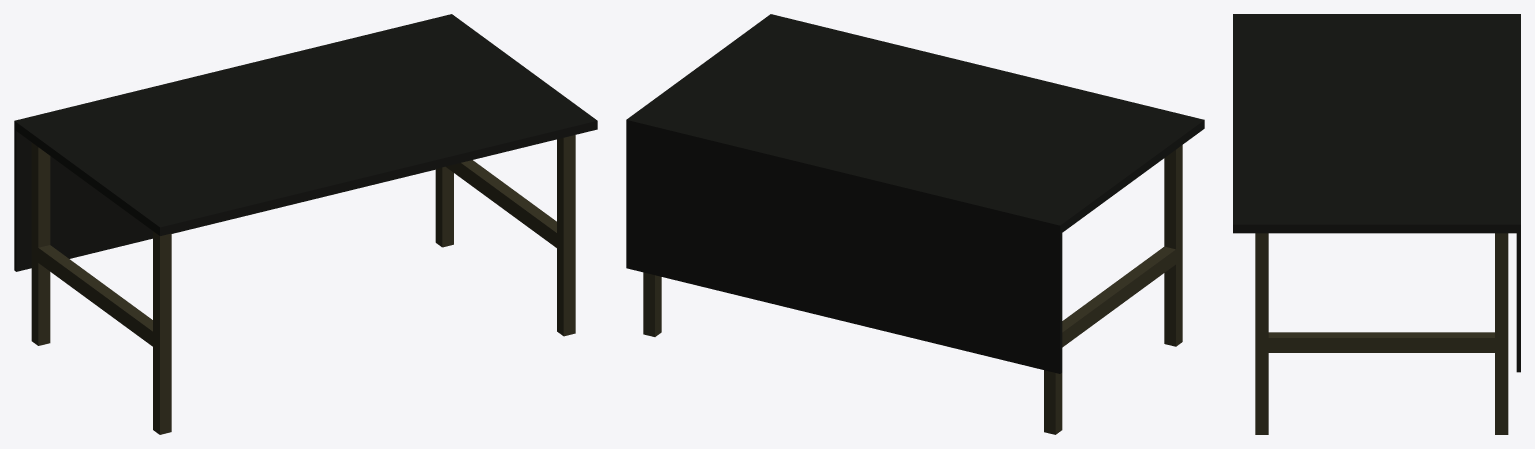
File: Desk_02.obj
3 views of the same model, side by side, from view 1: azimuth 30°, elevation 25°; view 2: azimuth 150°, elevation 25°; view 3: azimuth 270°, elevation 25° (orthographic).
Parts seen in each view (by area): view 1: Cube.001; view 2: Cube.001; view 3: Cube.001.
Part boxes in pixels (x1,y1,x2,y2): Cube.001: (14, 14, 597, 434); Cube.001: (626, 14, 1204, 434); Cube.001: (1233, 14, 1520, 434).
Bounding box in the file's own units: 5.2 × 2.48 × 3.
